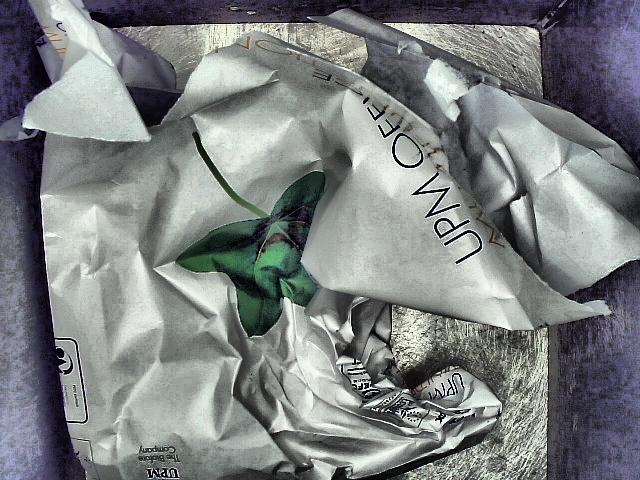Paper: (0, 12, 640, 480)
